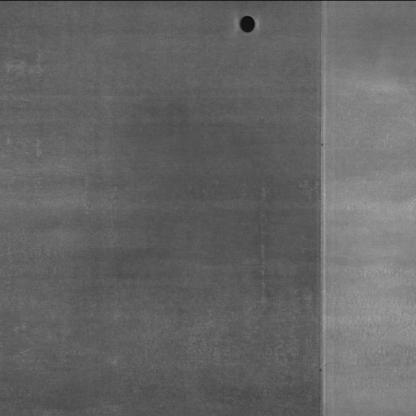punching_hole: (231, 12, 264, 34)
welding_line: (303, 4, 340, 411)
